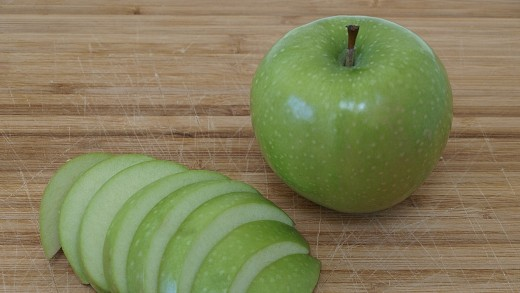apple: (248, 14, 454, 214)
